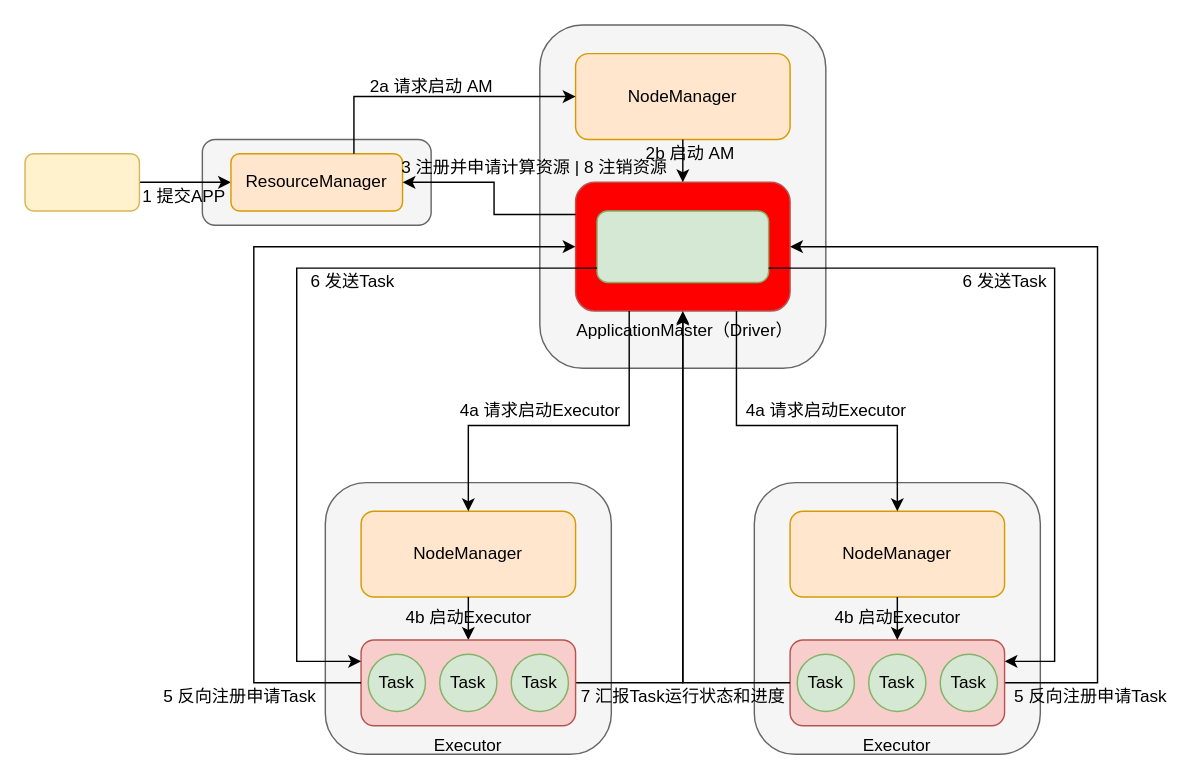
The diagram is 1201 pixels wide and 781 high, and some of its shapes have lost their labels. Here are the shapes that lost their labels. From the top down, the centre of each, then its label:
the point at 81,181: Client
the point at 682,245: SparkContext
